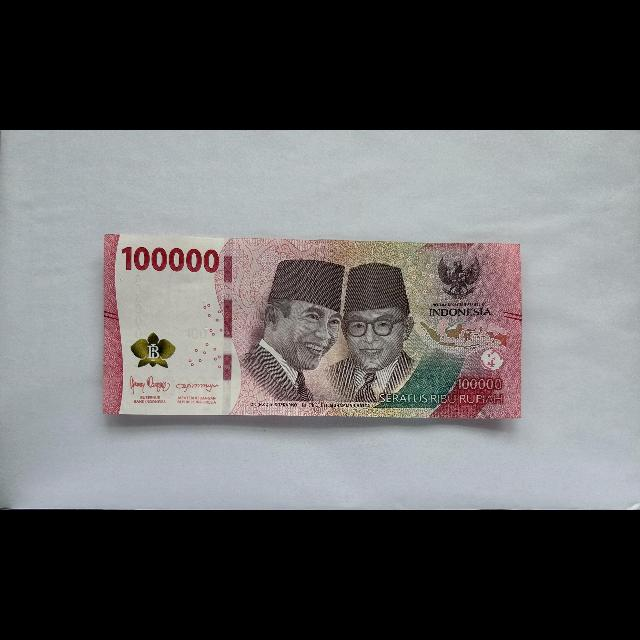Asli-100k: (102, 234, 525, 421)
Tinta-Asli-100k: (130, 331, 177, 370)
